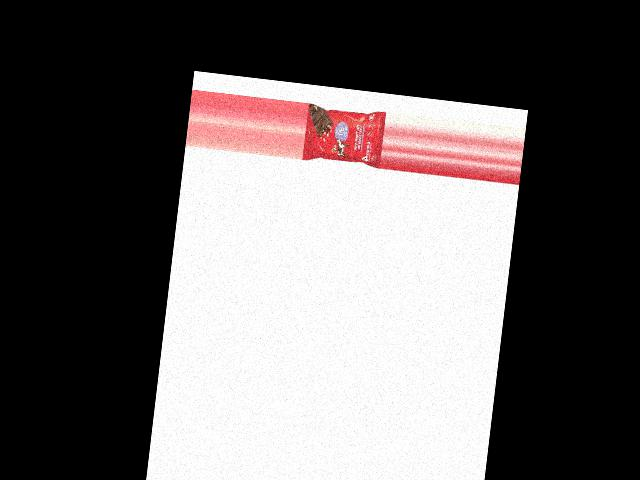chocolate: (302, 102, 387, 166)
